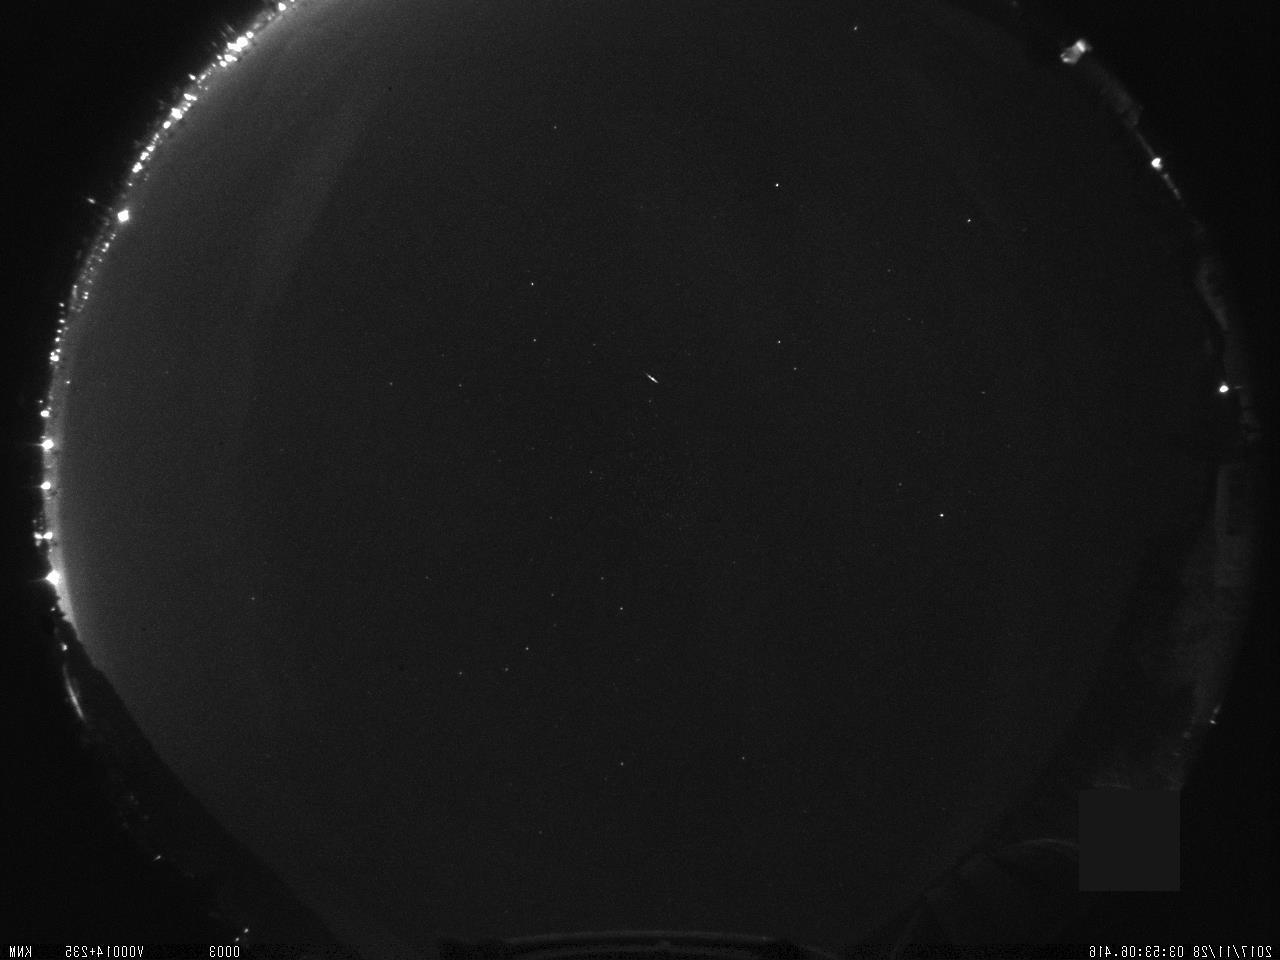meteor: (639, 364, 666, 392)
